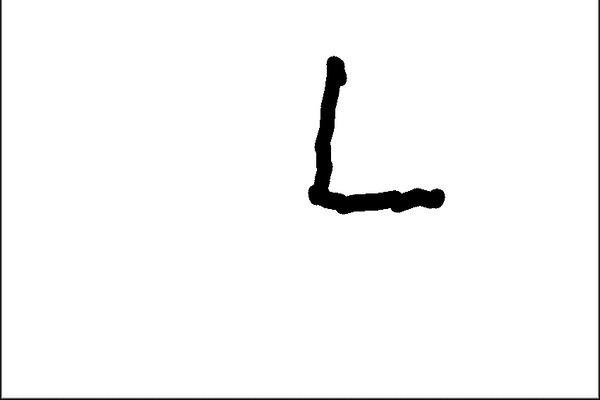L: (300, 47, 455, 222)
